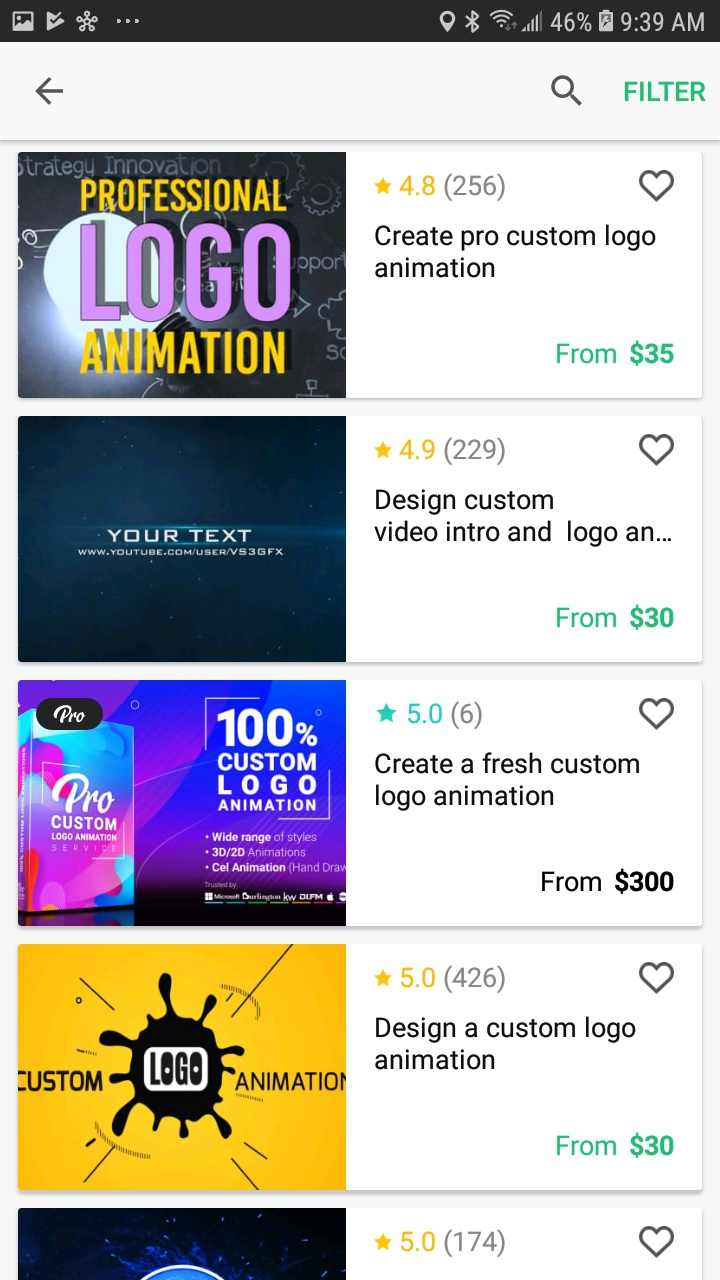Icon: (639, 170, 675, 203), (639, 434, 675, 467), (639, 698, 675, 731), (639, 1226, 675, 1259), (637, 962, 674, 993), (551, 75, 583, 107), (35, 77, 64, 106), (377, 704, 398, 724), (374, 178, 393, 196), (374, 969, 393, 987), (374, 1233, 393, 1251), (375, 442, 393, 459)
Image: (18, 944, 347, 1191), (18, 416, 347, 663), (19, 680, 347, 927), (19, 153, 347, 399), (19, 1208, 347, 1280)
Text: (374, 489, 672, 548), (375, 752, 640, 812), (374, 225, 656, 279), (374, 1015, 636, 1070), (542, 868, 675, 895), (556, 1132, 674, 1159), (400, 173, 506, 202), (400, 437, 506, 466), (401, 965, 506, 994), (401, 1229, 506, 1258), (554, 605, 674, 628), (555, 341, 673, 364), (408, 700, 483, 730), (624, 81, 706, 102)
UpperTaskBar: (1, 1, 720, 43)
